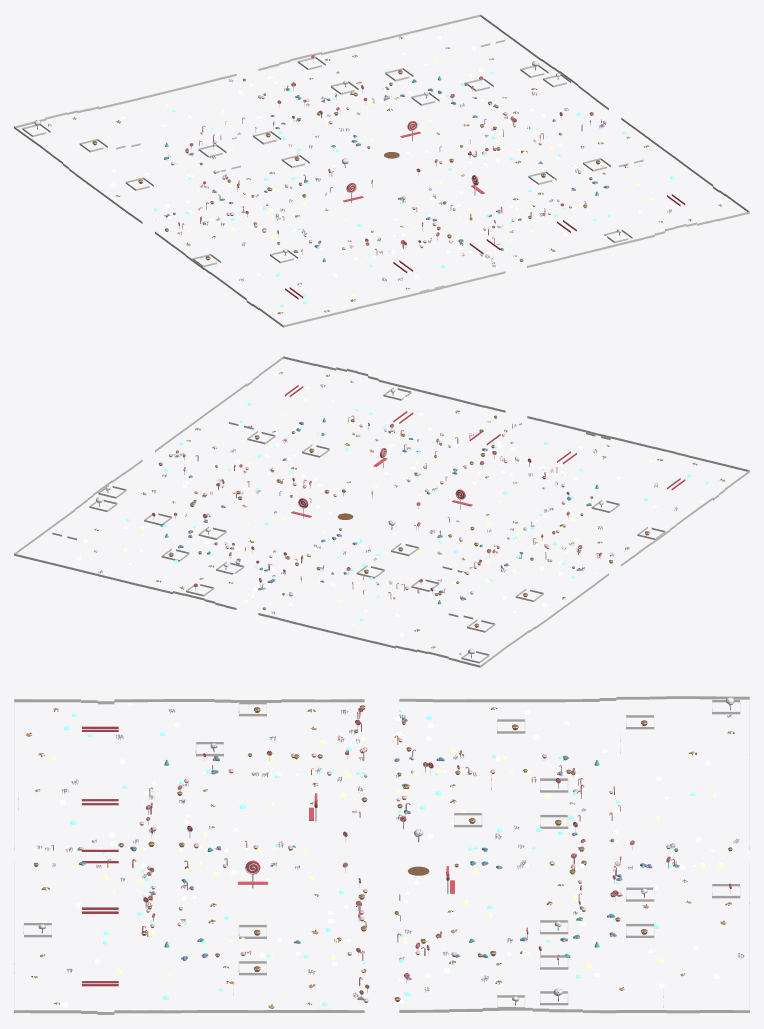
The model's file is GingerbreadVillage_Decoration.fbx.
3 renders of one model, top to bottom at view 1: azimuth 30°, elevation 25°; view 2: azimuth 150°, elevation 25°; view 3: azimuth 270°, elevation 25°, orthographic. The views are drawn at different scales.
Bounding box in the file's own units: 342 × 14.99 × 342.
